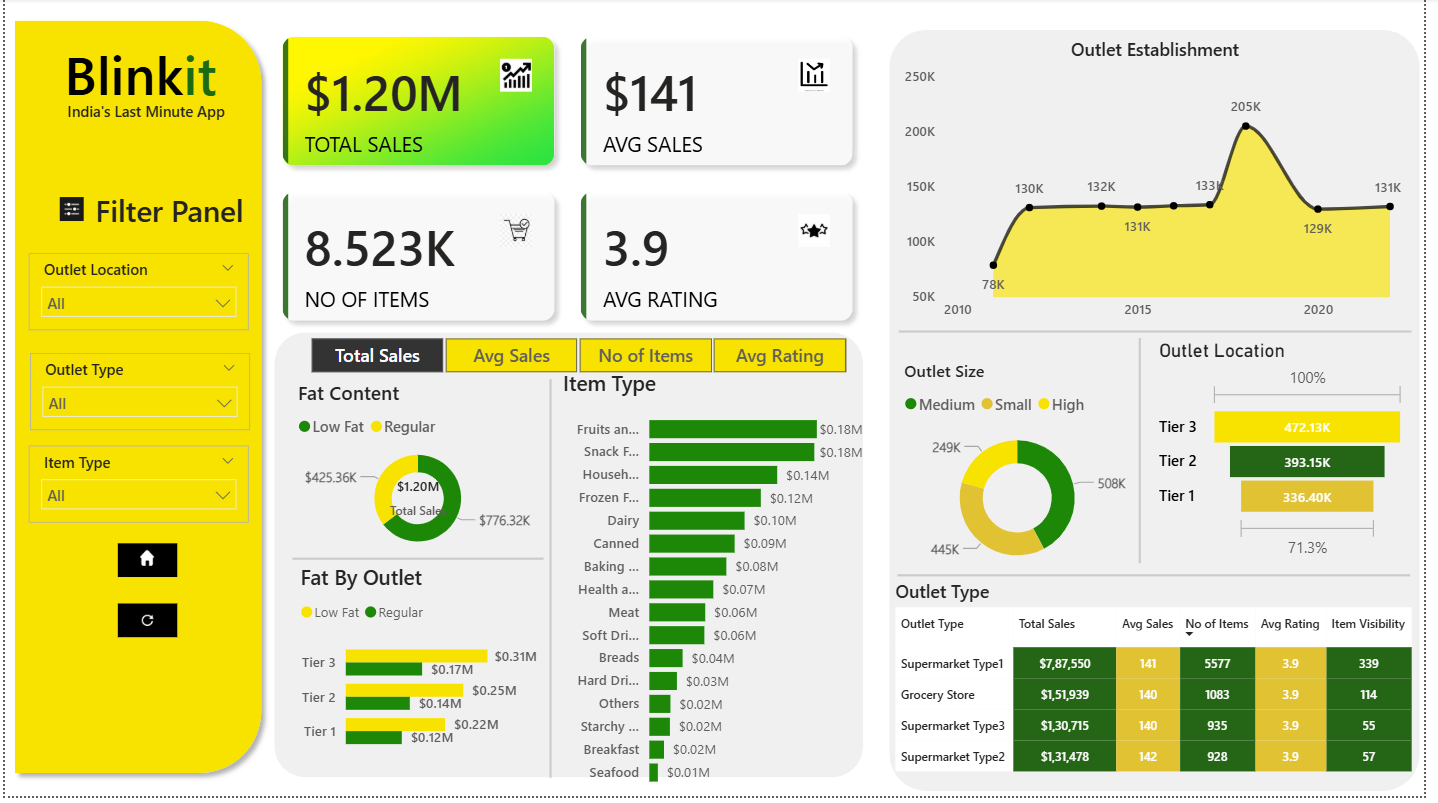

What the dashboard file says about the page in this screenshot:
{"tool":"powerbi","page":{"name":"Page 1","canvas":[1280,720],"ordinal":0},"visuals":[{"type":"shape","box":[0,11.3,240.1,696.6],"z":0},{"type":"textbox","box":[30,30,198,80],"z":1000},{"type":"textbox","box":[29,88,186,34],"z":2000},{"type":"cardVisual","fields":{"Data":["BlinkIT Grocery Data.Total Sales","BlinkIT Grocery Data.Avg Sales","BlinkIT Grocery Data.No of Items","BlinkIT Grocery Data.Avg Rating"]},"box":[223.2,18,569.2,300.9],"z":3000},{"type":"shape","box":[237.8,296.4,541,411.4],"z":4000},{"type":"slicer","fields":{"Values":["Metrics.Metrics"]},"box":[250.7,299.6,531.9,44],"z":5000},{"type":"donutChart","title":"Fat Content","fields":{"Y":["BlinkIT Grocery Data.Total Sales"],"Category":["BlinkIT Grocery Data.Item Fat Content"]},"box":[259.2,343.6,226.2,162.6],"z":6000},{"type":"card","fields":{"Values":["BlinkIT Grocery Data.Total Sales"]},"box":[339.9,425.5,64.8,47.7],"z":7000},{"type":"clusteredBarChart","title":"Fat By Outlet","fields":{"Y":["BlinkIT Grocery Data.Total Sales"],"Series":["BlinkIT Grocery Data.Item Fat Content"],"Category":["BlinkIT Grocery Data.Outlet Location Type"]},"box":[261.7,509.9,223.8,182.2],"z":8000},{"type":"shape","box":[259.2,490.4,226.2,30.6],"z":9000},{"type":"shape","box":[485.5,343.6,12.2,359.5],"z":10000},{"type":"barChart","title":"Item Type","fields":{"Y":["BlinkIT Grocery Data.Total Sales"],"Category":["BlinkIT Grocery Data.Item Type"]},"box":[498.2,334.8,280.7,385.5],"z":11000},{"type":"shape","box":[791.9,23.3,488.4,696.5],"z":12000},{"type":"lineChart","title":"Outlet Establishment ","fields":{"Y":["Sum(BlinkIT Grocery Data.Sales)"],"Category":["BlinkIT Grocery Data.Outlet Establishment Year"]},"box":[805.8,35.5,462.2,264.1],"z":13000},{"type":"donutChart","title":"Outlet Size","fields":{"Y":["BlinkIT Grocery Data.Total Sales"],"Category":["BlinkIT Grocery Data.Outlet Size"]},"box":[805.8,325.3,214,200.5],"z":14000},{"type":"shape","box":[805.8,281.3,462.2,37.9],"z":15000},{"type":"funnel","title":" Outlet Location","fields":{"Y":["Sum(BlinkIT Grocery Data.Sales)"],"Category":["BlinkIT Grocery Data.Outlet Location Type"]},"box":[1035.7,308.2,232.3,201.8],"z":16000},{"type":"shape","box":[1011.3,306.9,24.5,203],"z":17000},{"type":"shape","box":[804.6,501.4,462.2,37.9],"z":18000},{"type":"pivotTable","title":"Outlet Type","fields":{"Rows":["BlinkIT Grocery Data.Outlet Type"],"Values":["BlinkIT Grocery Data.Total Sales","BlinkIT Grocery Data.Avg Sales","BlinkIT Grocery Data.No of Items","BlinkIT Grocery Data.Avg Rating","Sum(BlinkIT Grocery Data.Item Visibility)"]},"box":[798,523,475.6,197.2],"z":19000},{"type":"slicer","fields":{"Values":["BlinkIT Grocery Data.Outlet Location Type"]},"box":[21.4,229.9,198.4,69.9],"z":20000},{"type":"slicer","fields":{"Values":["BlinkIT Grocery Data.Outlet Type"]},"box":[22.5,320.1,198.4,69.9],"z":21000},{"type":"slicer","fields":{"Values":["BlinkIT Grocery Data.Item Type"]},"box":[21.4,403.5,198.4,69.9],"z":22000},{"type":"textbox","box":[68.5,167.5,159,46.5],"z":23000},{"type":"image","box":[40.4,174.9,39.1,31.8],"z":24000},{"type":"image","box":[96.6,486.7,63.6,40.4],"z":25000},{"type":"image","box":[96.6,539.3,63.6,45.2],"z":26000}]}

Visuals, with their boxes in screenshot pixels (x1, y1, x2, y2), scaled from the page's 1280x720 canvas onto the 1438x803 screenshot:
shape: 0/13/270/790
textbox: 34/33/256/123
textbox: 33/98/242/136
cardVisual - BlinkIT Grocery Data.Total Sales x BlinkIT Grocery Data.Avg Sales: 251/20/890/356
shape: 267/331/875/789
slicer - Metrics.Metrics: 282/334/879/383
"Fat Content" donutChart: 291/383/545/565
card - BlinkIT Grocery Data.Total Sales: 382/475/455/528
"Fat By Outlet" clusteredBarChart: 294/569/545/772
shape: 291/547/545/581
shape: 545/383/559/784
"Item Type" barChart: 560/373/875/802
shape: 890/26/1437/802
"Outlet Establishment " lineChart: 905/40/1425/334
"Outlet Size" donutChart: 905/363/1146/586
shape: 905/314/1425/356
" Outlet Location" funnel: 1164/344/1425/569
shape: 1136/342/1164/569
shape: 904/559/1423/601
"Outlet Type" pivotTable: 897/583/1431/802
slicer - BlinkIT Grocery Data.Outlet Location Type: 24/256/247/334
slicer - BlinkIT Grocery Data.Outlet Type: 25/357/248/435
slicer - BlinkIT Grocery Data.Item Type: 24/450/247/528
textbox: 77/187/256/239
image: 45/195/89/231
image: 109/543/180/588
image: 109/601/180/652
